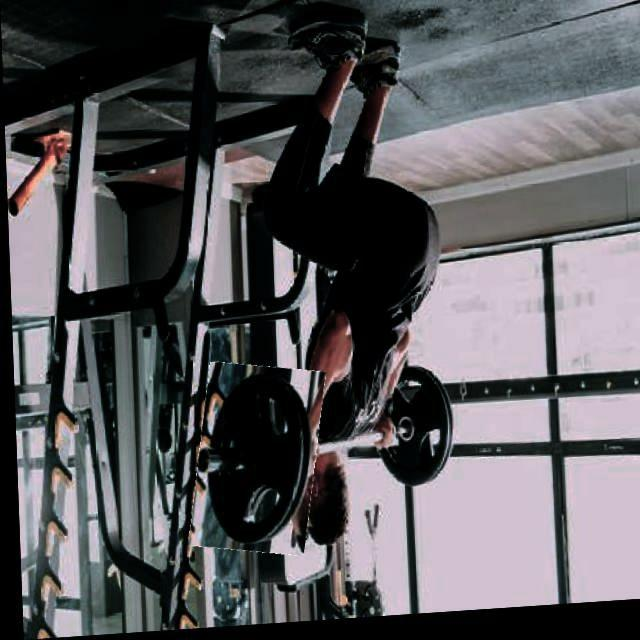barbell: (186, 362, 320, 562)
